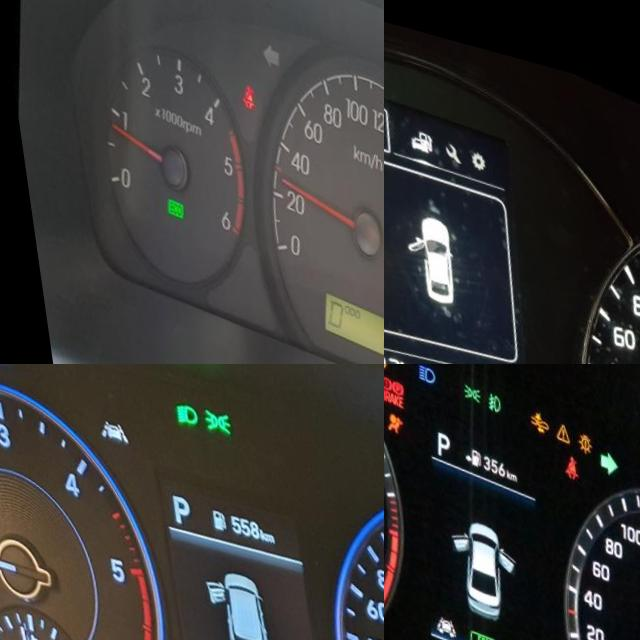Central Warning lamp: (548, 397, 566, 422)
FrontFogLight: (480, 371, 497, 396)
LaneCenteringOff: (91, 401, 121, 426), (420, 598, 446, 625)
Low beam: (168, 379, 194, 408)
SideLamp: (197, 384, 227, 413), (456, 364, 477, 386)
